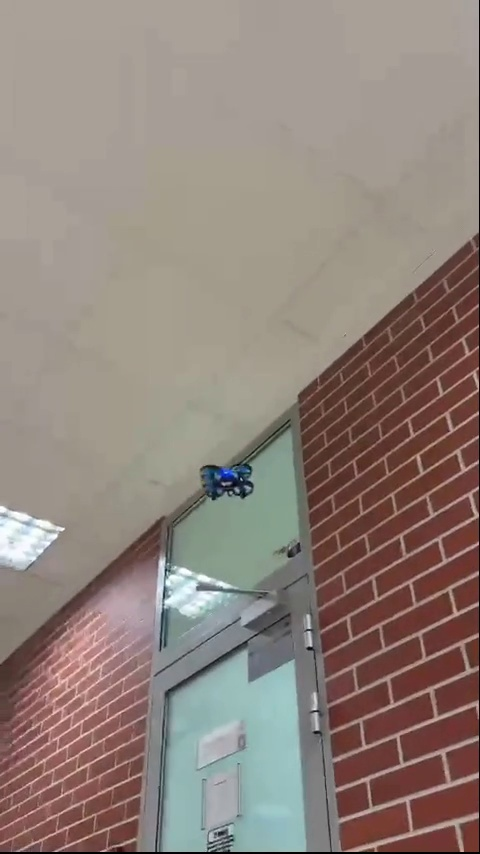drone: (201, 466, 260, 506)
